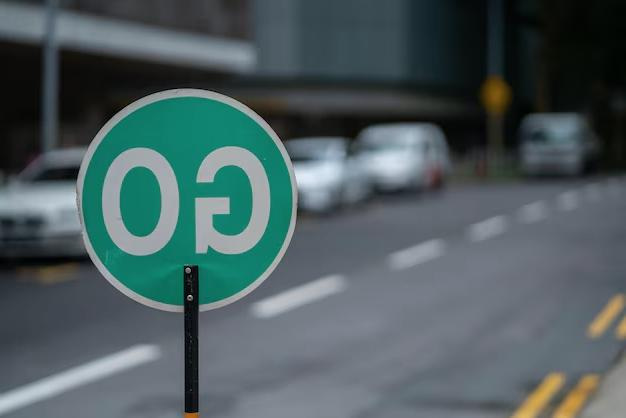Go: (82, 94, 300, 307)
